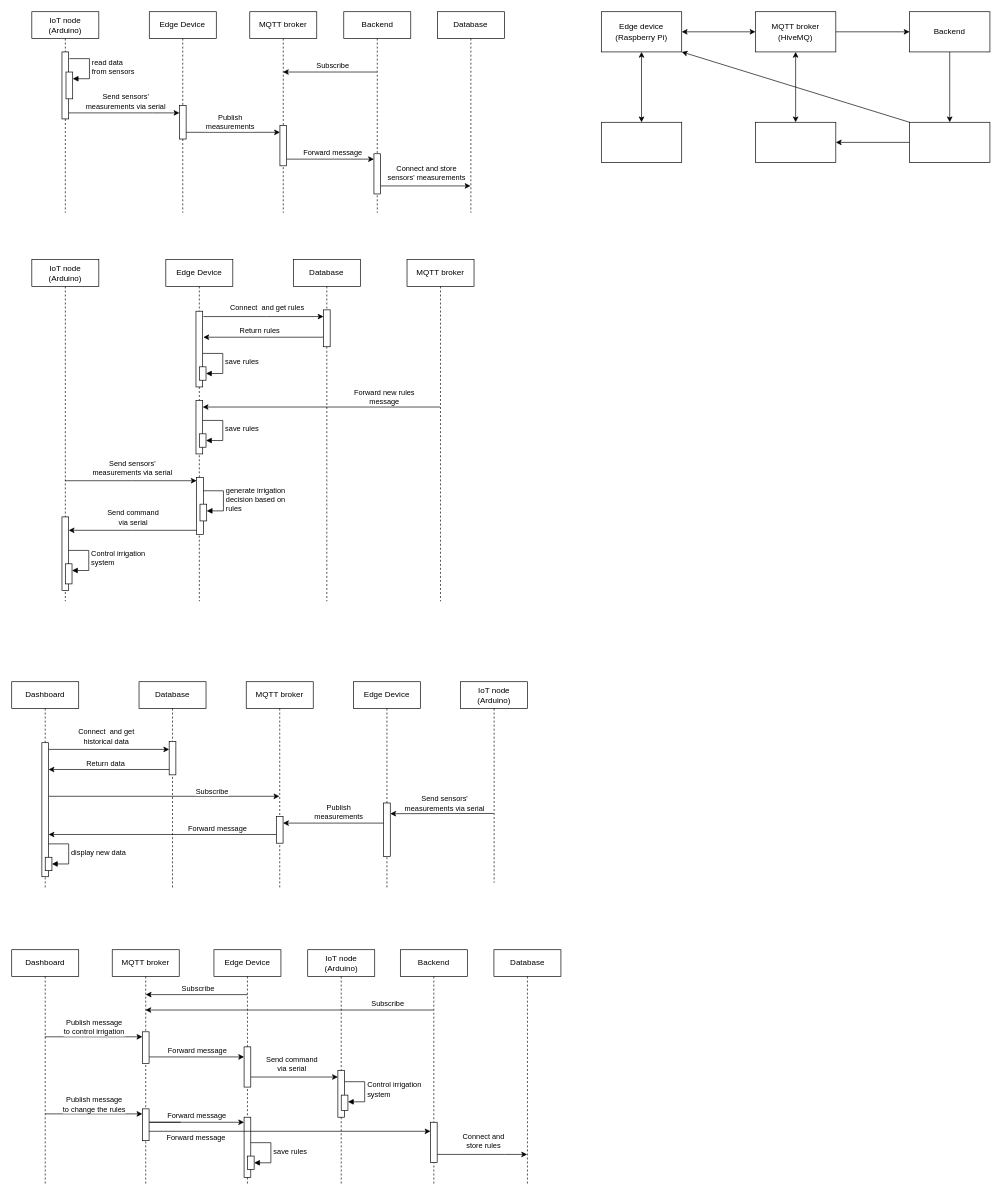
This 1002x1196 diagram has some shape labels left out. Each missing label, with the centre of its shape:
Dashboard (NextJS): the point at 795,142
Database (MySQL): the point at 949,142
IoT node (Arduino Uno): the point at 641,142
